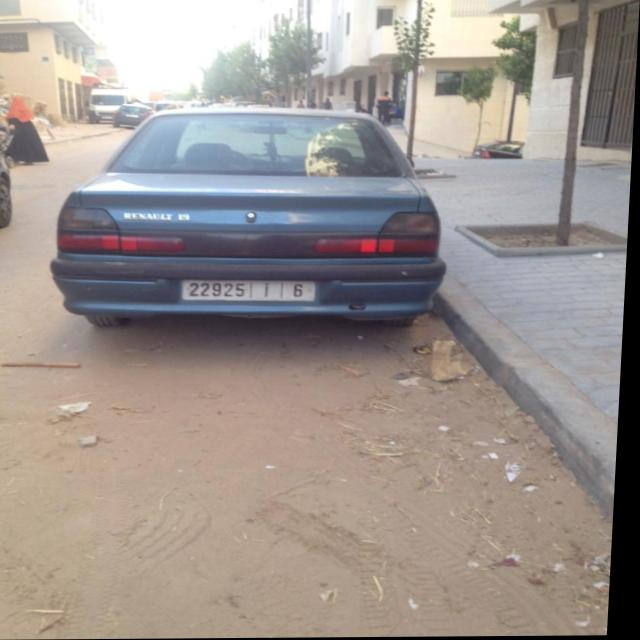License-Plate: (185, 280, 318, 301)
